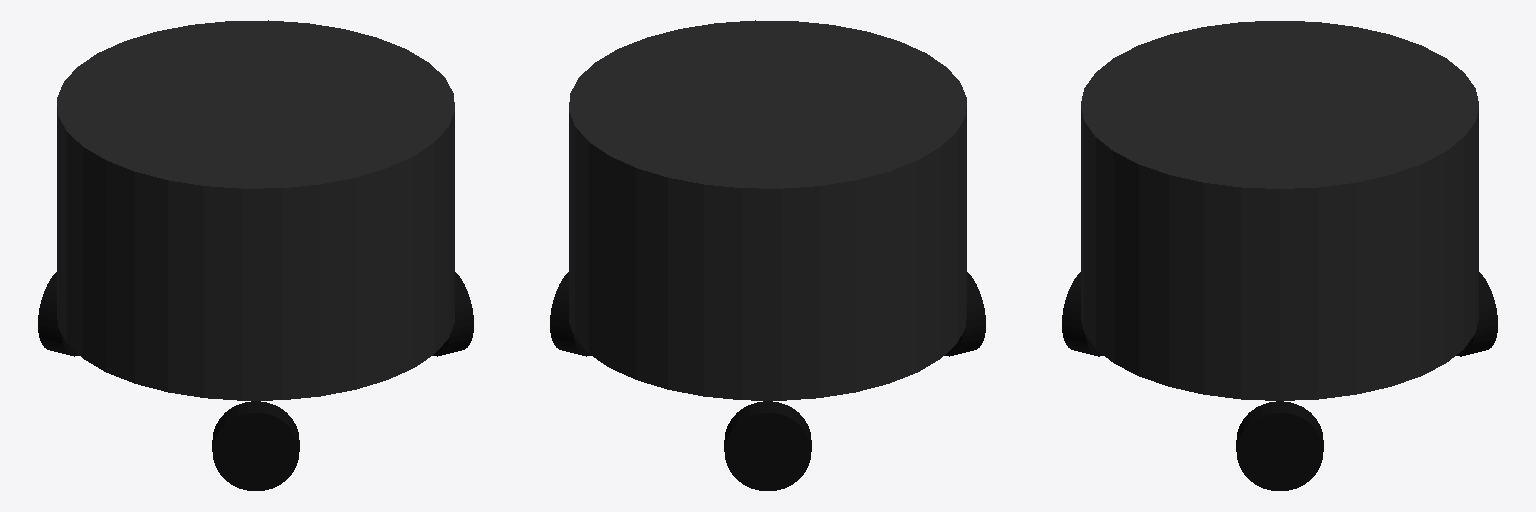
URDF robot description (fetchbot):
<?xml version="1.0" ?>
<!-- =================================================================================== -->
<!-- |    This document was autogenerated by xacro from xacro/fetchbot.urdf.xacro      | -->
<!-- |    EDITING THIS FILE BY HAND IS NOT RECOMMENDED                                 | -->
<!-- =================================================================================== -->
<robot name="fetchbot" xmlns:xacro="http://www.ros.org/wiki/xacro">
  <!-- naming convention for pi consistent with Jade -->
  <!-- RealSense R200 Definition -->
  <!-- case bounding box -->
  <!-- R200 parameters -->
  <!-- position of RGB joint -->
  <!-- ========================================================================= -->
  <!-- the base of the robot, defining the origin of its overall coordinate system -->
  <link name="base_link">
    <origin rpy="0 0 0" xyz="0 0 0"/>
  </link>
  <!-- a macro defining a wheel, offset from the center and rotated -->
  <!-- instantiate three wheels -->
  <joint name="base_to_wheel0" type="fixed">
    <parent link="base_link"/>
    <child link="wheel0"/>
    <origin rpy="0 0 0.0" xyz="0 0 0"/>
  </joint>
  <link name="wheel0">
    <visual>
      <geometry>
        <cylinder length="0.015" radius="0.024"/>
      </geometry>
      <material name="darkergrey">
        <color rgba="0.1 0.1 0.1 1"/>
      </material>
      <origin rpy="0 1.57079632679 0" xyz="0.1175 0 0.024"/>
    </visual>
    <collision>
      <geometry>
        <cylinder length="0.015" radius="0.024"/>
      </geometry>
      <origin rpy="0 1.57079632679 0" xyz="0.1175 0 0.024"/>
    </collision>
    <inertial>
      <mass value="0.05"/>
      <inertia ixx="1.0" ixy="0.0" ixz="0.0" iyy="1.0" iyz="0.0" izz="1.0"/>
    </inertial>
  </link>
  <joint name="base_to_wheel1" type="fixed">
    <parent link="base_link"/>
    <child link="wheel1"/>
    <origin rpy="0 0 2.09439510239" xyz="0 0 0"/>
  </joint>
  <link name="wheel1">
    <visual>
      <geometry>
        <cylinder length="0.015" radius="0.024"/>
      </geometry>
      <material name="darkergrey">
        <color rgba="0.1 0.1 0.1 1"/>
      </material>
      <origin rpy="0 1.57079632679 0" xyz="0.1175 0 0.024"/>
    </visual>
    <collision>
      <geometry>
        <cylinder length="0.015" radius="0.024"/>
      </geometry>
      <origin rpy="0 1.57079632679 0" xyz="0.1175 0 0.024"/>
    </collision>
    <inertial>
      <mass value="0.05"/>
      <inertia ixx="1.0" ixy="0.0" ixz="0.0" iyy="1.0" iyz="0.0" izz="1.0"/>
    </inertial>
  </link>
  <joint name="base_to_wheel2" type="fixed">
    <parent link="base_link"/>
    <child link="wheel2"/>
    <origin rpy="0 0 4.18879020479" xyz="0 0 0"/>
  </joint>
  <link name="wheel2">
    <visual>
      <geometry>
        <cylinder length="0.015" radius="0.024"/>
      </geometry>
      <material name="darkergrey">
        <color rgba="0.1 0.1 0.1 1"/>
      </material>
      <origin rpy="0 1.57079632679 0" xyz="0.1175 0 0.024"/>
    </visual>
    <collision>
      <geometry>
        <cylinder length="0.015" radius="0.024"/>
      </geometry>
      <origin rpy="0 1.57079632679 0" xyz="0.1175 0 0.024"/>
    </collision>
    <inertial>
      <mass value="0.05"/>
      <inertia ixx="1.0" ixy="0.0" ixz="0.0" iyy="1.0" iyz="0.0" izz="1.0"/>
    </inertial>
  </link>
  <joint name="base_to_body" type="fixed">
    <parent link="base_link"/>
    <child link="body"/>
    <origin rpy="0 0 0" xyz="0 0 0.1125"/>
  </joint>
  <link name="body">
    <visual>
      <geometry>
        <cylinder length="0.129" radius="0.11"/>
      </geometry>
      <material name="darkgrey">
        <color rgba="0.2 0.2 0.2 1"/>
      </material>
    </visual>
    <collision>
      <geometry>
        <cylinder length="0.129" radius="0.11"/>
      </geometry>
    </collision>
    <inertial>
      <mass value="1"/>
      <inertia ixx="1.0" ixy="0.0" ixz="0.0" iyy="1.0" iyz="0.0" izz="1.0"/>
    </inertial>
  </link>
  <joint name="body_to_camera_mount" type="fixed">
    <parent link="body"/>
    <child link="camera_mount"/>
    <origin rpy="0 0 0" xyz="-0.03 0 0.1245"/>
  </joint>
  <link name="camera_mount"/>
  <!-- RGB joints & links -->
  <joint name="camera_rgb_joint" type="fixed">
    <origin rpy="0 0 0" xyz="0.1288 -0.0214 0.1751"/>
    <parent link="camera_mount"/>
    <child link="camera_rgb_frame"/>
  </joint>
  <link name="camera_rgb_frame"/>
  <joint name="camera_rgb_optical_joint" type="fixed">
    <origin rpy="-1.57079632679 0 -1.57079632679" xyz="0 0 0"/>
    <parent link="camera_rgb_frame"/>
    <child link="camera_rgb_optical_frame"/>
  </joint>
  <link name="camera_rgb_optical_frame"/>
  <!-- Placing the camera joint -->
  <joint name="camera_joint" type="fixed">
    <origin rpy="0 0 0" xyz="0.12 0.082 0.1268"/>
    <parent link="camera_rgb_frame"/>
    <child link="camera_link"/>
  </joint>
  <link name="camera_link">
    <visual>
      <origin rpy="1.57079632679 0 1.57079632679" xyz="-0.1288 0.0214 -0.1751"/>
      <geometry>
        <mesh filename="package://fetchbot_description/meshes/sensors/r200_entire.dae"/>
      </geometry>
    </visual>
    <collision>
      <origin rpy="0 0 0" xyz="0.0 0.0 0.0"/>
      <geometry>
        <box size="0.130 0.567 0.118"/>
      </geometry>
    </collision>
    <!-- This inertial field needs doesn't contain reliable data!! -->
    <inertial>
      <mass value="0.564"/>
      <origin xyz="0 0 0"/>
      <inertia ixx="0.003881243" ixy="0.0" ixz="0.0" iyy="0.000498940" iyz="0.0" izz="0.003879257"/>
    </inertial>
  </link>
  <!-- Depth joints & links -->
  <joint name="camera_depth_joint" type="fixed">
    <origin rpy="0 0 0" xyz="0 0.0274 0"/>
    <parent link="camera_rgb_frame"/>
    <child link="camera_depth_frame"/>
  </joint>
  <link name="camera_depth_frame"/>
  <joint name="camera_depth_optical_joint" type="fixed">
    <origin rpy="-1.57079632679 0 -1.57079632679" xyz="0 0 0"/>
    <parent link="camera_depth_frame"/>
    <child link="camera_depth_optical_frame"/>
  </joint>
  <link name="camera_depth_optical_frame"/>
</robot>

--- Facts derived from the render (not from the file) ---
The picture shows the robot from 3 angles, left to right: view 1: azimuth 30°, elevation 25°; view 2: azimuth 150°, elevation 25°; view 3: azimuth 270°, elevation 25°; orthographic projection.
Model fetchbot with 11 links and 10 joints (10 fixed), rooted at base_link, posed every joint at zero.
Links seen in each view (by area): view 1: body, wheel2, wheel1, wheel0; view 2: body, wheel1, wheel2, wheel0; view 3: body, wheel0, wheel1, wheel2.
Link boxes in pixels (<box>): body: <box>57,20,454,400</box>; wheel2: <box>212,401,299,490</box>; wheel1: <box>38,272,78,356</box>; wheel0: <box>433,272,473,356</box>; body: <box>569,20,966,400</box>; wheel1: <box>724,401,811,490</box>; wheel2: <box>945,272,985,356</box>; wheel0: <box>550,272,590,356</box>; body: <box>1081,21,1478,400</box>; wheel0: <box>1236,401,1323,490</box>; wheel1: <box>1456,272,1497,356</box>; wheel2: <box>1062,272,1103,356</box>.
Size in the robot's own frame: 0.235 by 0.2405 by 0.177 metres.
Meshes: 1 distinct files referenced, 0 mesh visuals loaded (none loaded); not drawn: 1 (reference not matched to a file when rendering).
